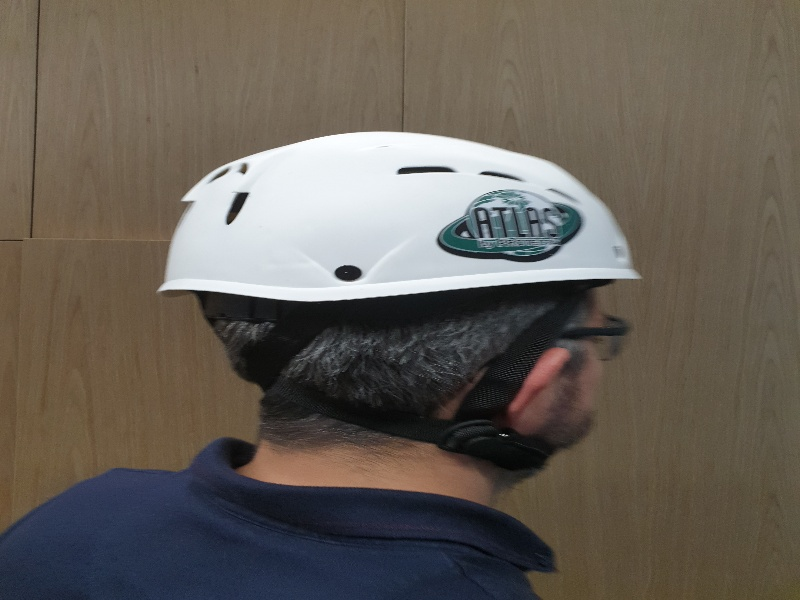Baret: (160, 136, 646, 304)
